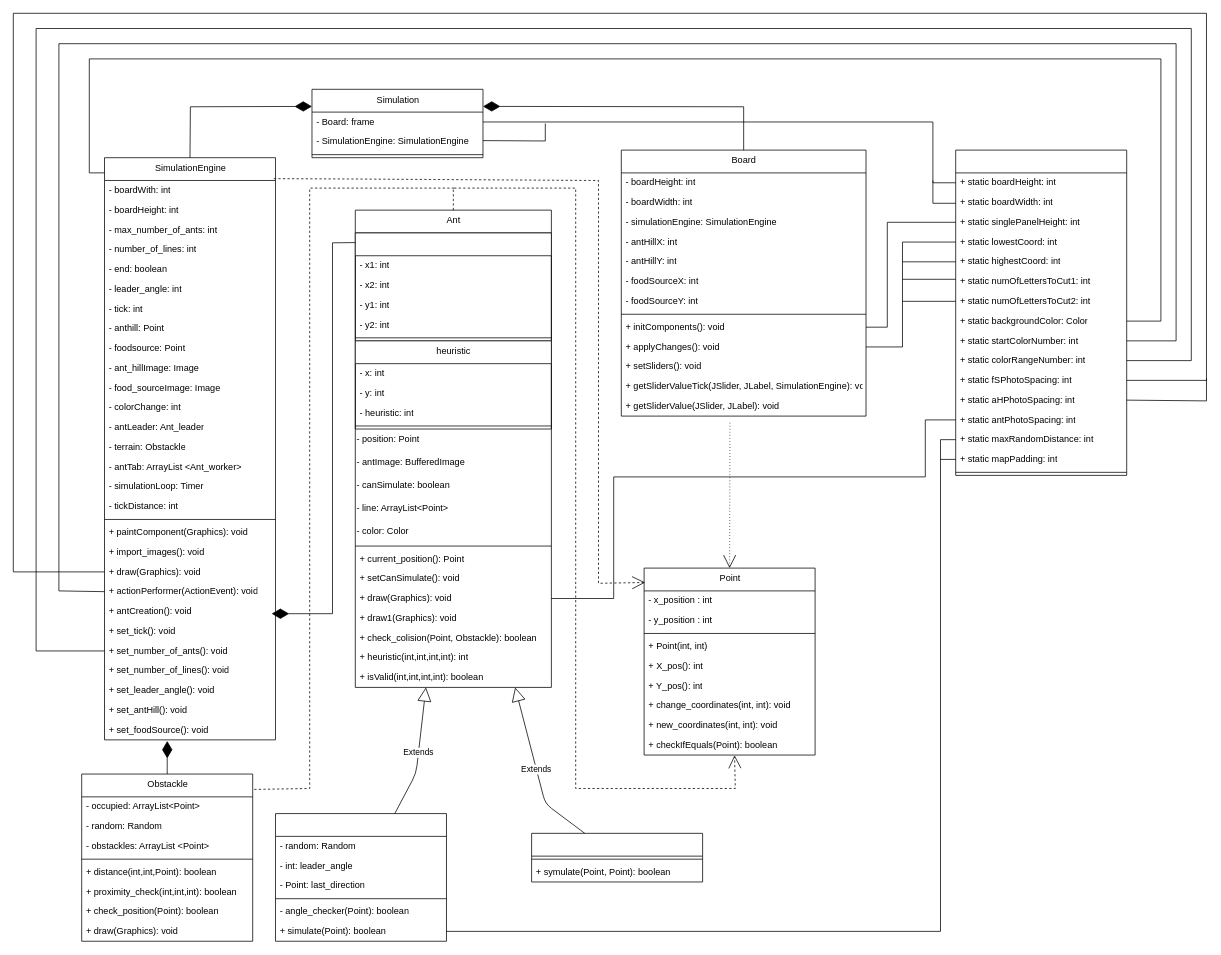
Some shapes in this 1221 by 955 pixel diagram are drawn without their labels. The shapes that lost their labels are listed below. From the top down, each one's box as (x1, y1, x2, y2) in pixels, then its label:
(355, 232, 551, 341): Line
(955, 149, 1127, 475): Const
(275, 813, 446, 941): Ant_leader
(531, 833, 703, 882): Ant_worker
